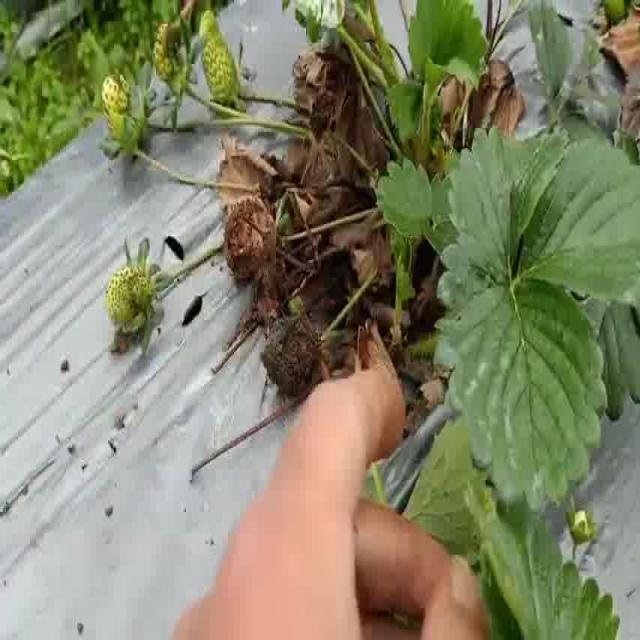Mancha negra Antracnosis: (218, 187, 279, 286), (264, 306, 320, 396)
